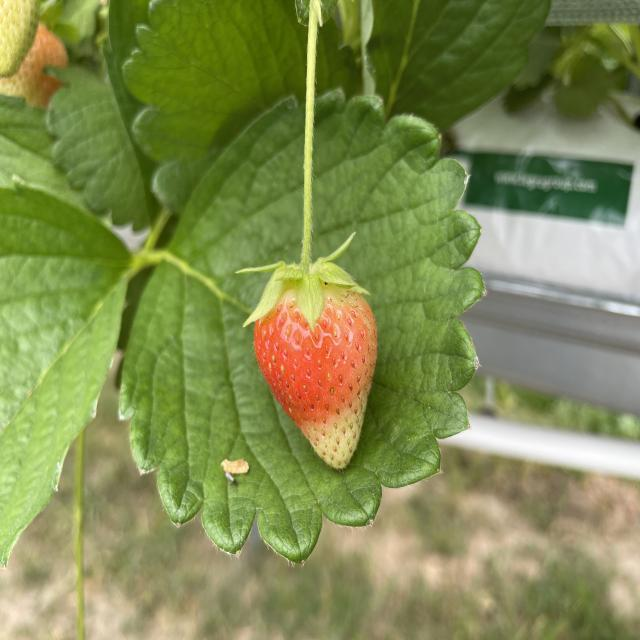stem: (238, 0, 368, 328)
strawberryR: (254, 288, 378, 468)
